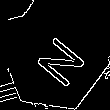N_NW: (25, 23, 85, 87)
